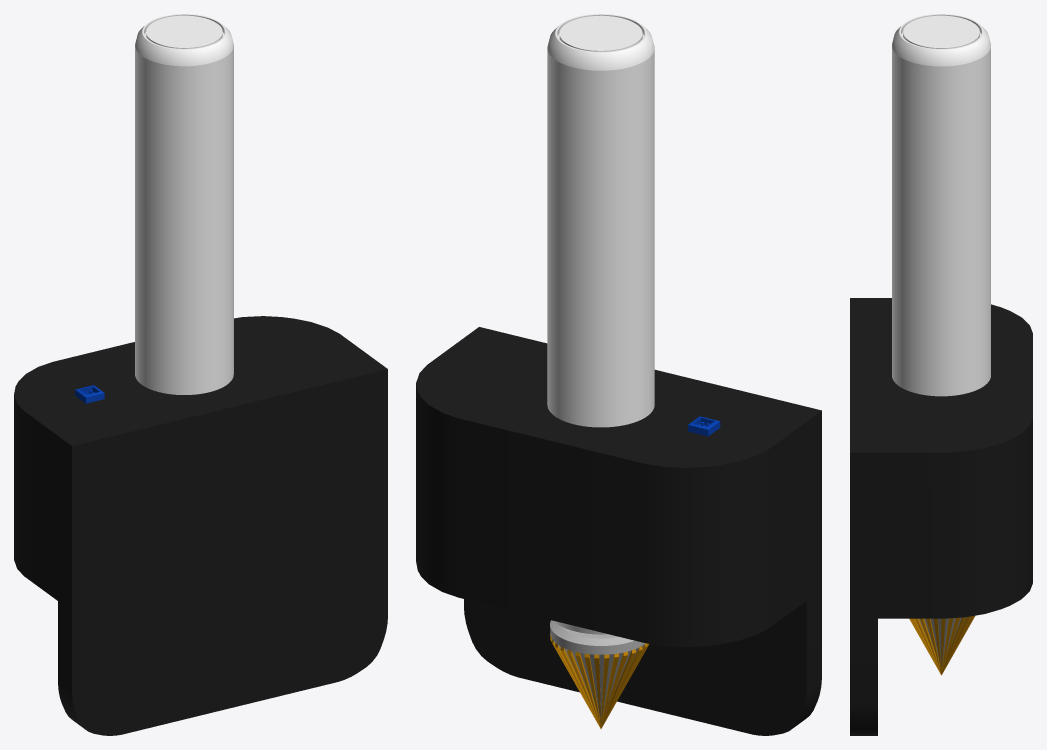
File: GroundAnchor.gltf
The picture shows the model from 3 angles, left to right: view 1: azimuth 30°, elevation 25°; view 2: azimuth 150°, elevation 25°; view 3: azimuth 270°, elevation 25°; orthographic projection. The views are drawn at different scales.
Visible parts, largest first — view 1: base; view 2: base, verrin; view 3: base, verrin.
Boxes of the visible parts, x1,y1,x2,y2 form: base: (14, 14, 387, 735); base: (416, 14, 821, 735); verrin: (550, 620, 649, 728); base: (850, 14, 1032, 735); verrin: (909, 615, 974, 675).
Size of the model in its own units: 1 by 1.95 by 0.5.
